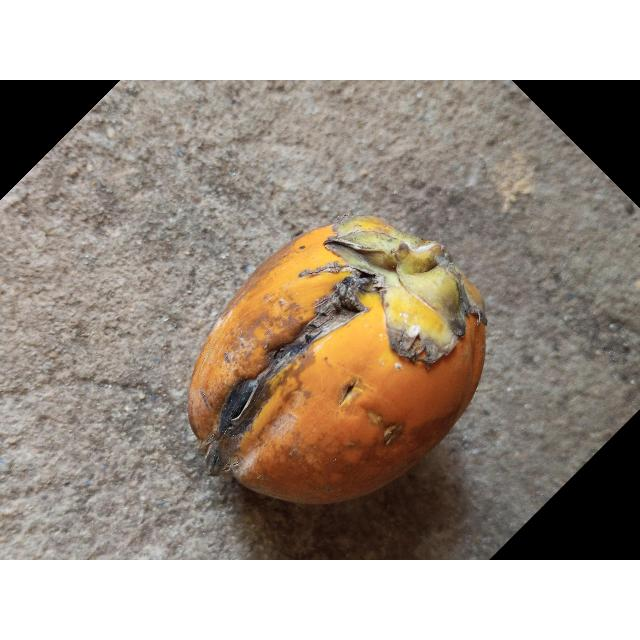damaged: (186, 217, 488, 508)
